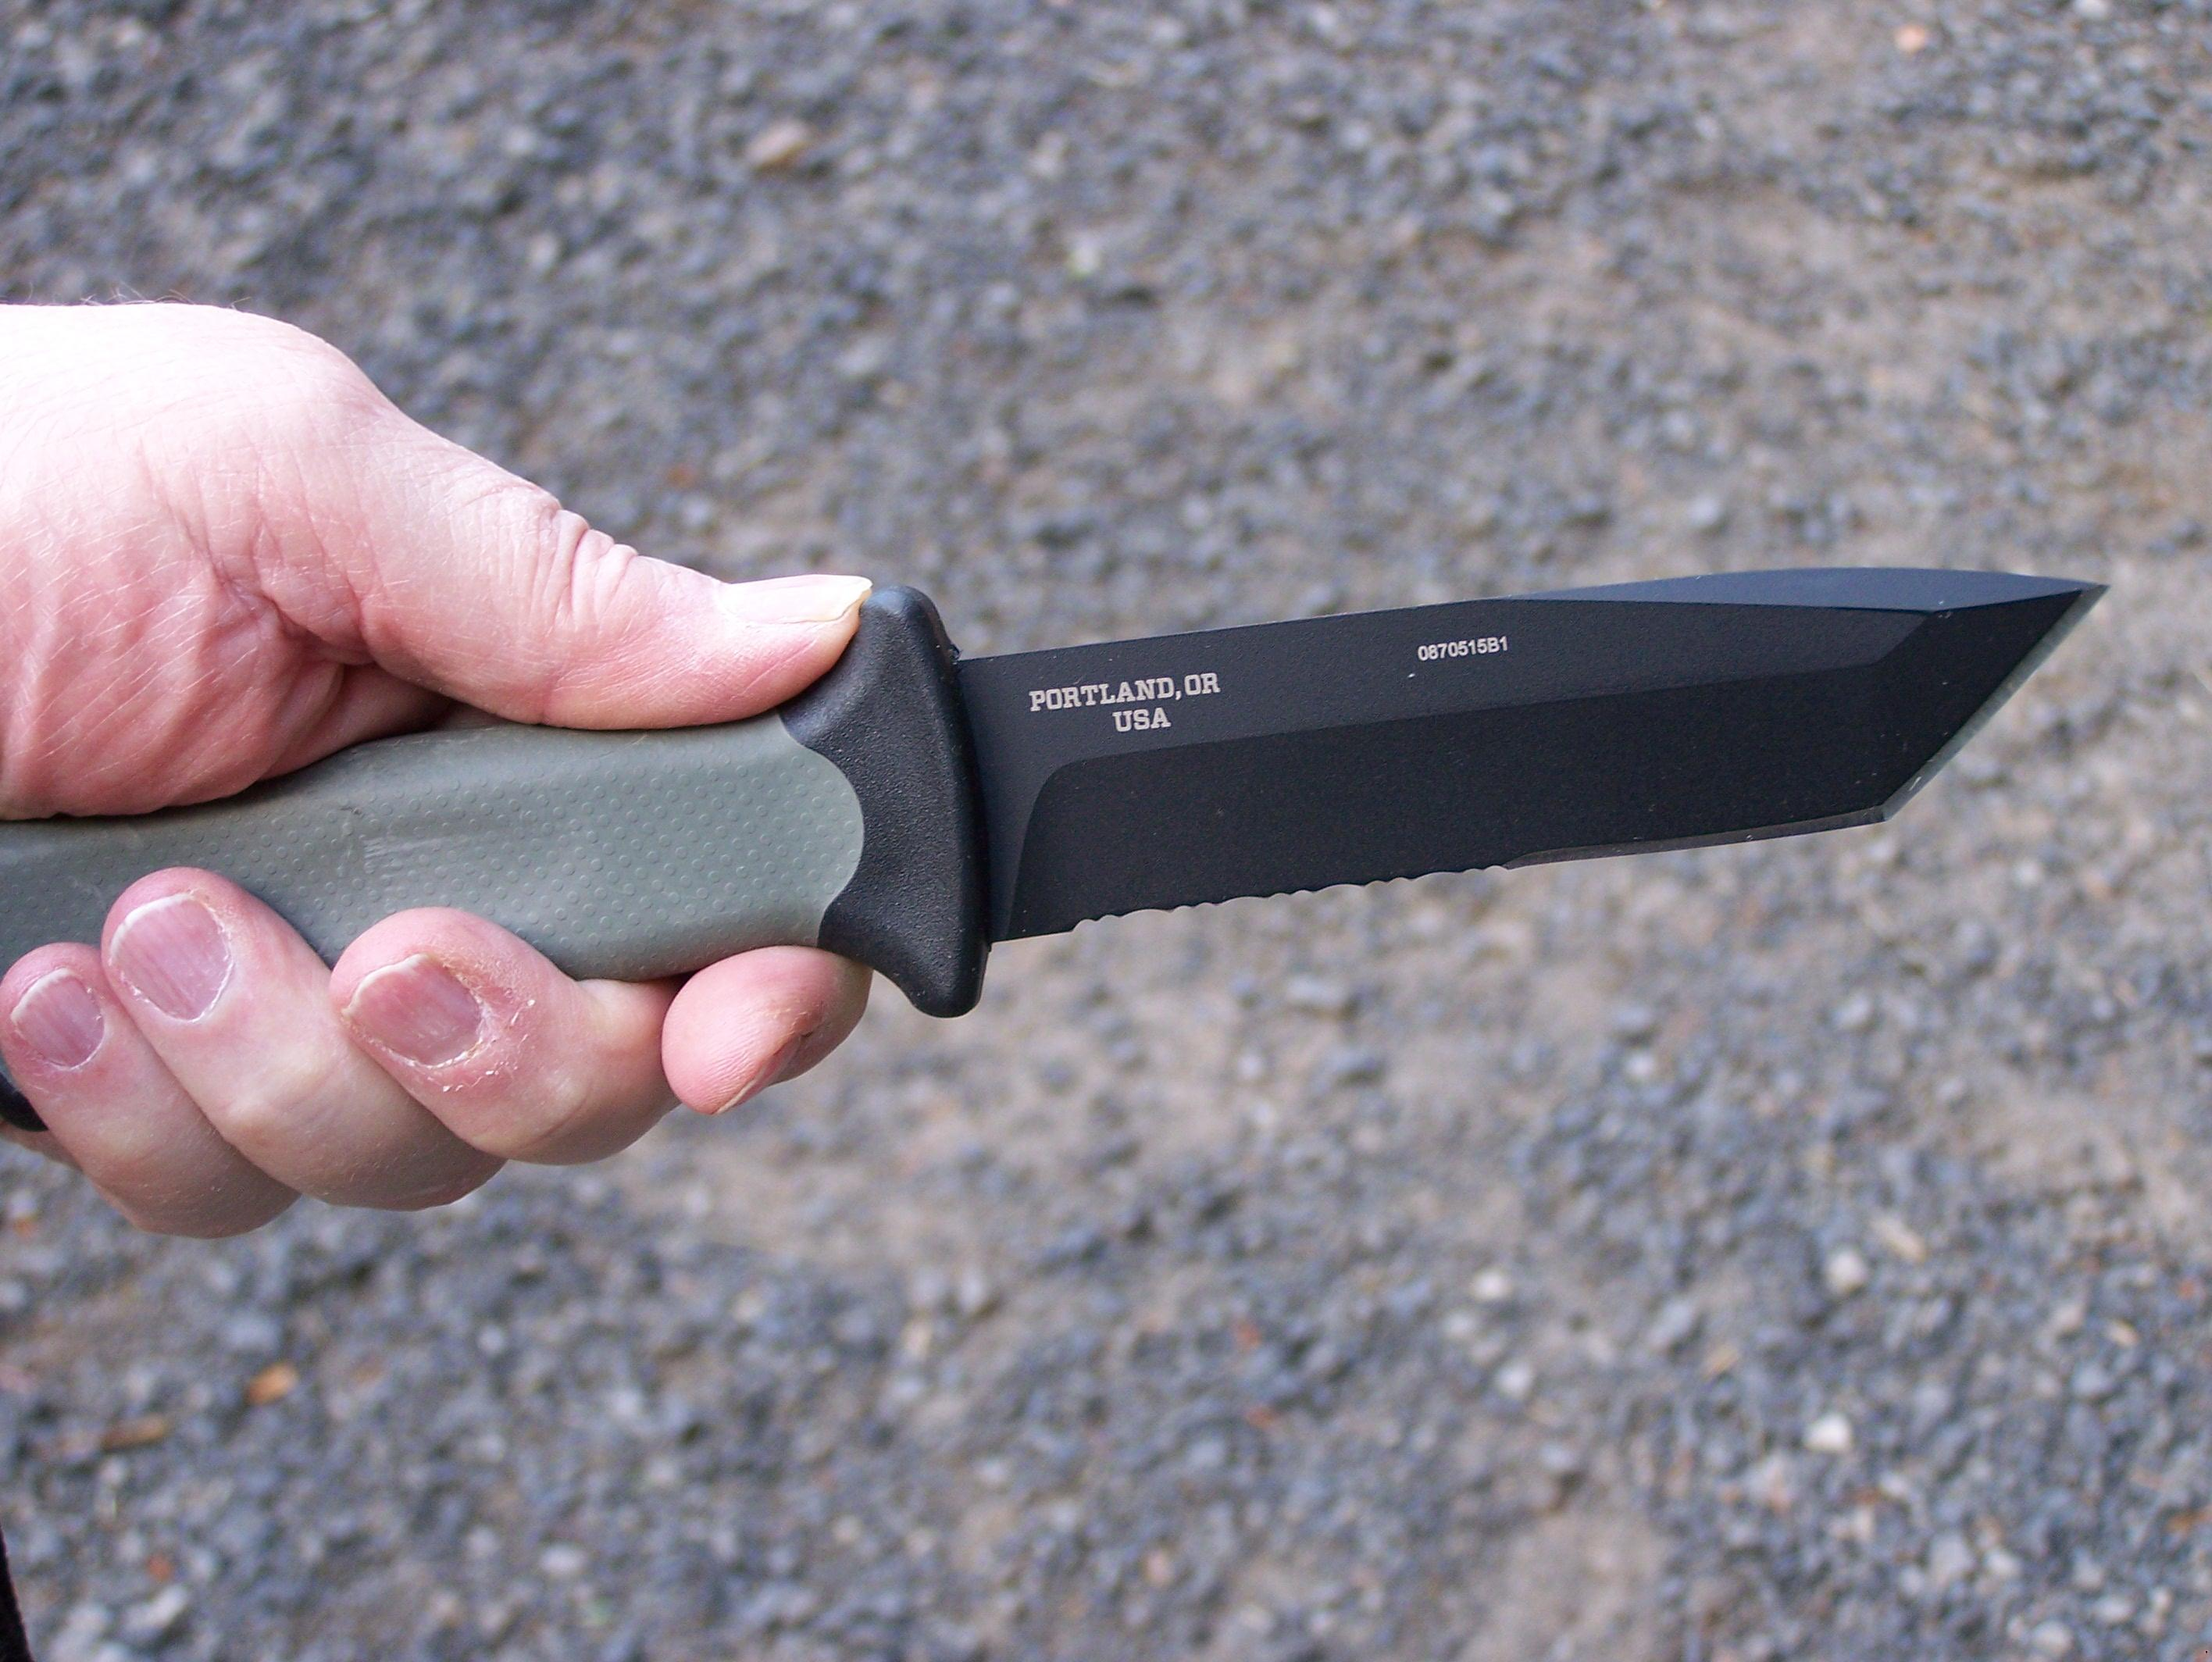knife: (0, 541, 2144, 1123)
